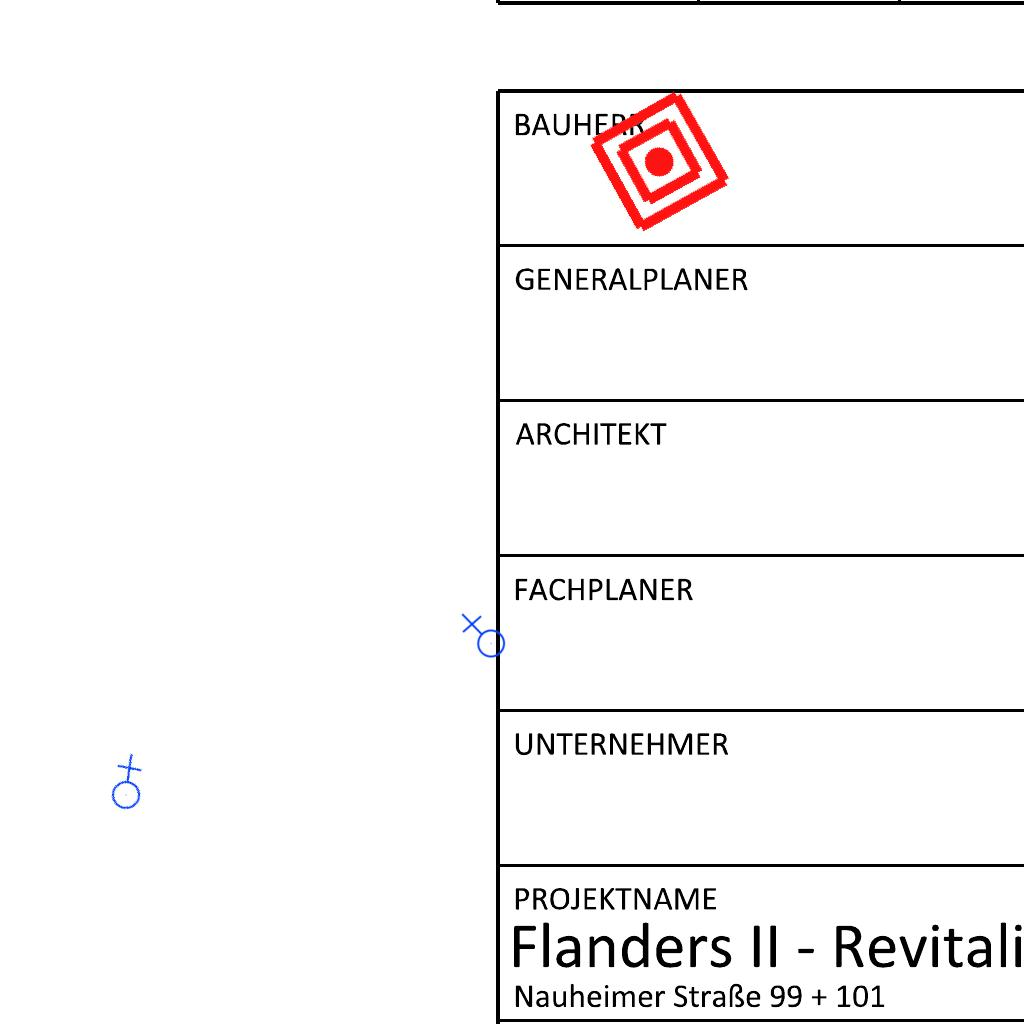Elektroanschluss_allgemein_230V_Geraeteanschlussdose_230V: (91, 750, 160, 819), (459, 613, 506, 662)
NAM-Nichtautomatischer_Melder: (582, 84, 737, 239)
